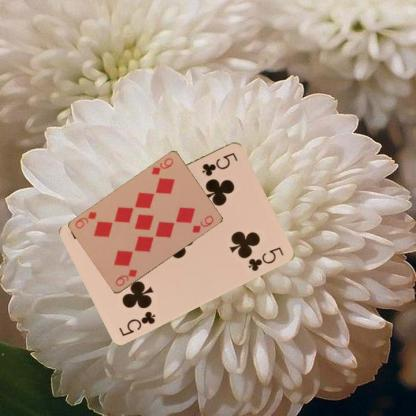5c: (116, 308, 157, 337), (199, 150, 240, 177)
9d: (149, 156, 175, 177), (113, 267, 138, 288)
